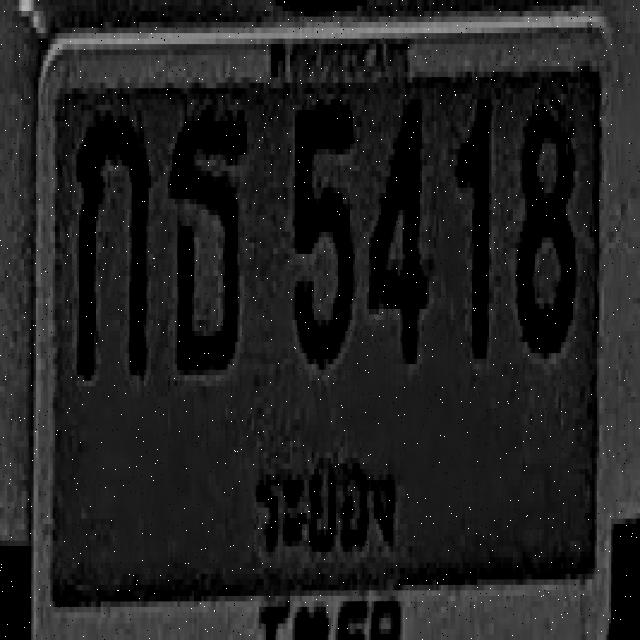1: (451, 53, 502, 370)
10GorGai: (67, 88, 163, 396)
33ThorThong: (163, 84, 257, 412)
4: (364, 79, 437, 423)
5: (278, 84, 362, 394)
8: (508, 73, 580, 377)
Rayong: (245, 427, 444, 591)
